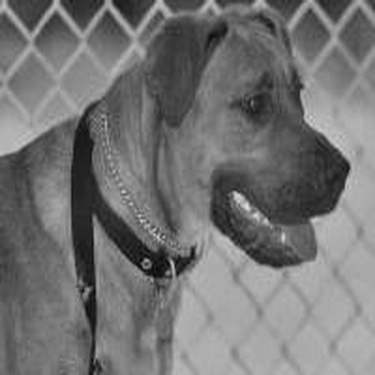dog: (1, 4, 356, 374)
